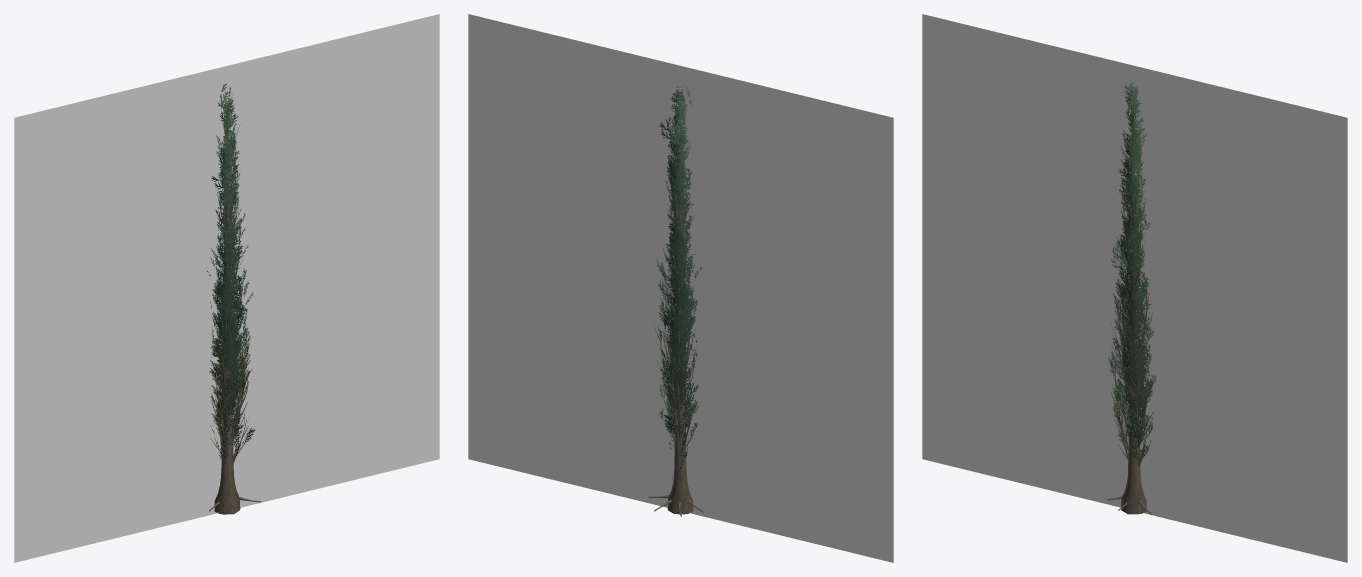
File: cypres_adulte_c.fbx
The picture shows the model from 3 angles, left to right: view 1: azimuth 30°, elevation 25°; view 2: azimuth 150°, elevation 25°; view 3: azimuth 330°, elevation 25°; orthographic projection.
Parts seen in each view (by area): view 1: cypres_adulte_c_LOD3, cypres_adulte_c_LOD1, cypres_adulte_c_LOD2; view 2: cypres_adulte_c_LOD3, cypres_adulte_c_LOD1, cypres_adulte_c_LOD2; view 3: cypres_adulte_c_LOD3, cypres_adulte_c_LOD1, cypres_adulte_c_LOD2.
Boxes of the visible parts, x1=… form: cypres_adulte_c_LOD3: x1=14, y1=14, x2=439, y2=562; cypres_adulte_c_LOD1: x1=207, y1=87, x2=261, y2=514; cypres_adulte_c_LOD2: x1=209, y1=83, x2=246, y2=514; cypres_adulte_c_LOD3: x1=468, y1=14, x2=893, y2=562; cypres_adulte_c_LOD1: x1=648, y1=85, x2=703, y2=516; cypres_adulte_c_LOD2: x1=659, y1=84, x2=698, y2=513; cypres_adulte_c_LOD3: x1=922, y1=14, x2=1347, y2=562; cypres_adulte_c_LOD1: x1=1107, y1=87, x2=1156, y2=514; cypres_adulte_c_LOD2: x1=1111, y1=83, x2=1151, y2=514.
Size of what is drawn, in the model's own units: 13.99 by 13.99 by 1.83.
